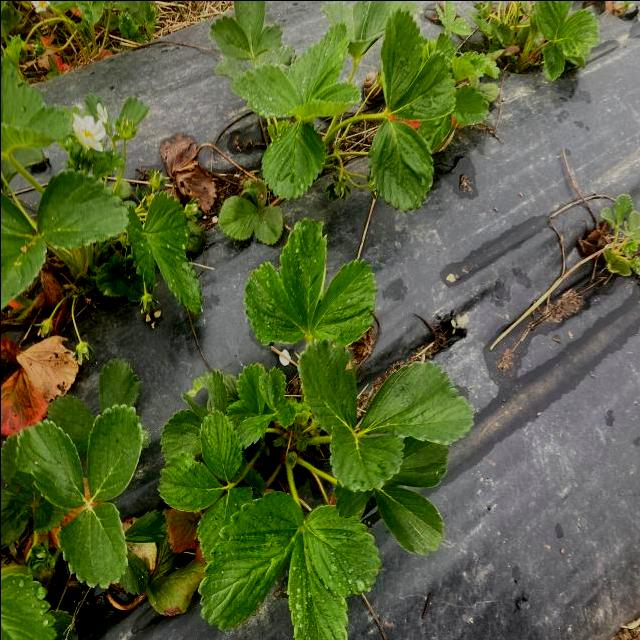flower: (65, 104, 111, 156)
